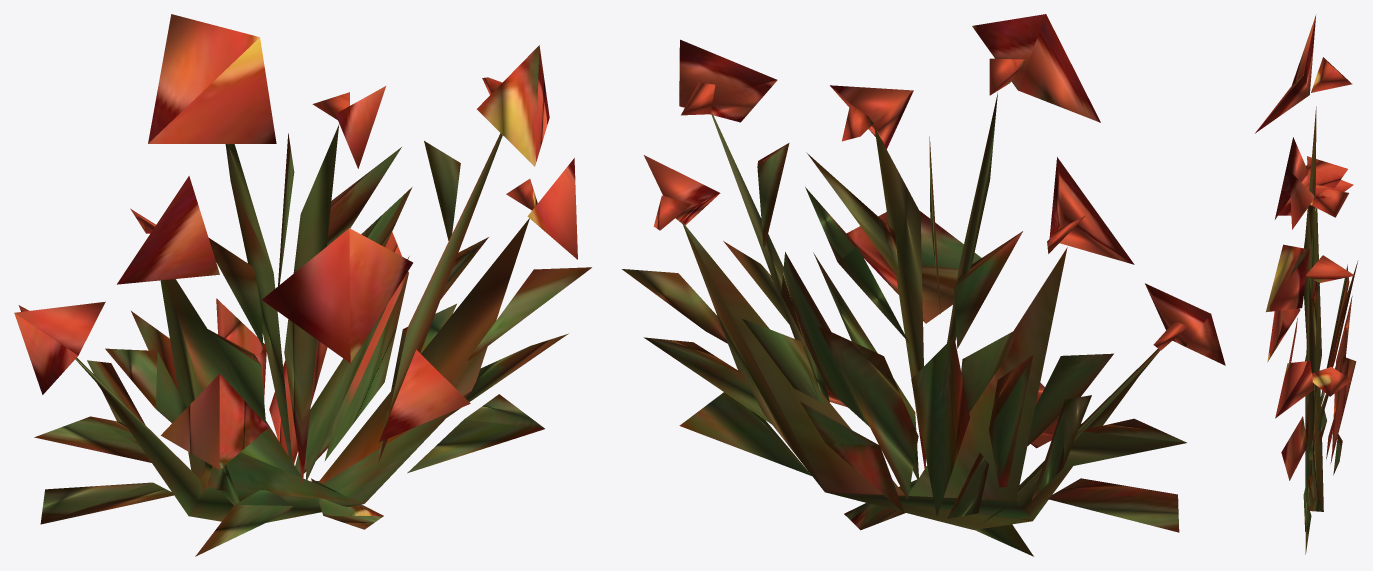
File: s-fleurs-feu-semis.glb
3 views of the same model, side by side, from view 1: azimuth 30°, elevation 25°; view 2: azimuth 150°, elevation 25°; view 3: azimuth 270°, elevation 25° (orthographic). The views are drawn at different scales.
Visible parts, largest first — view 1: s-fleurs-feu-semis; view 2: s-fleurs-feu-semis; view 3: s-fleurs-feu-semis.
Boxes of the visible parts, left/top/right/bottom form: s-fleurs-feu-semis: left=14, top=14, right=591, bottom=556; s-fleurs-feu-semis: left=622, top=14, right=1225, bottom=556; s-fleurs-feu-semis: left=1255, top=14, right=1358, bottom=554.
Size of the model in its own units: 1.93 by 1.78 by 0.3769.
1 material, 1 textured.
